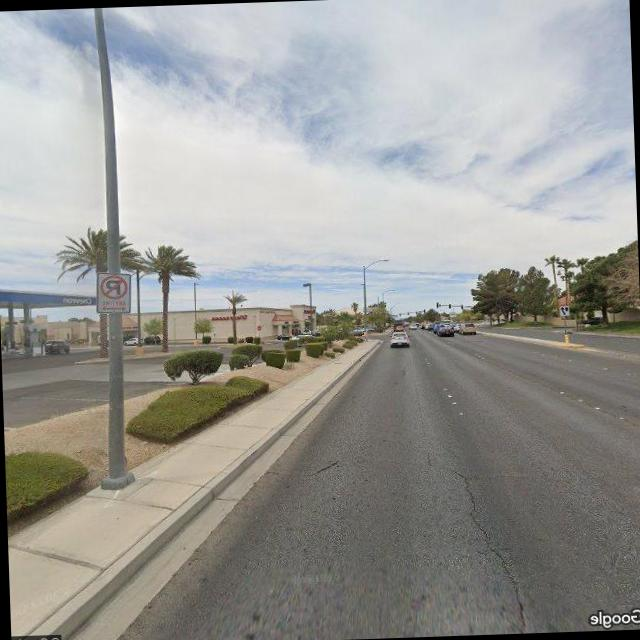pothole: (426, 444, 536, 630)
